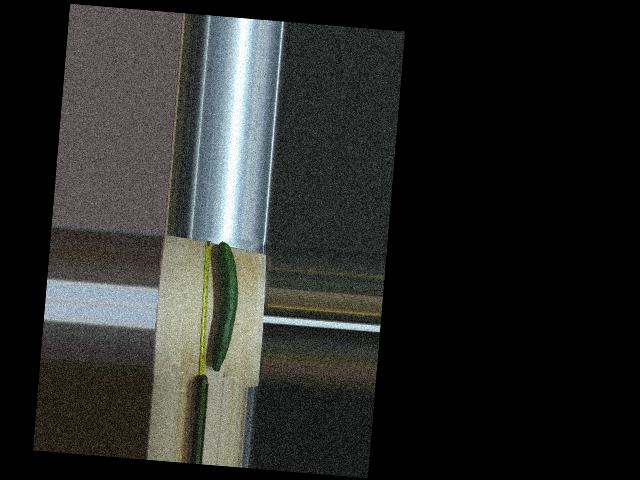cucumber: (206, 241, 242, 373)
